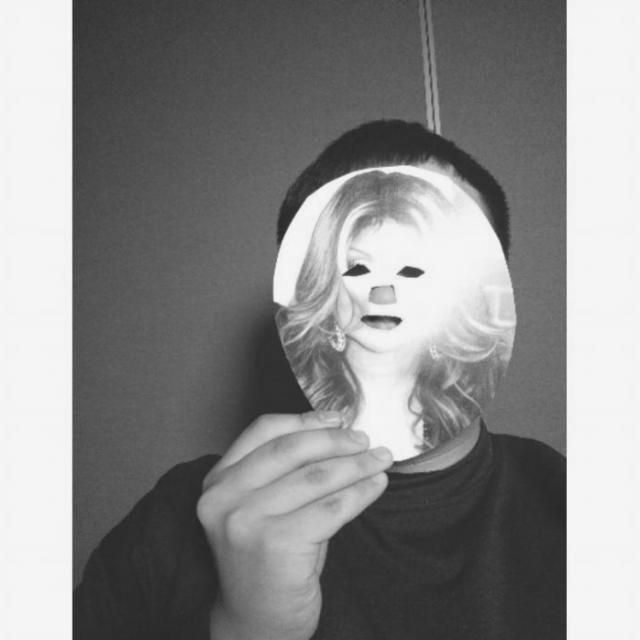fake: (268, 168, 518, 468)
